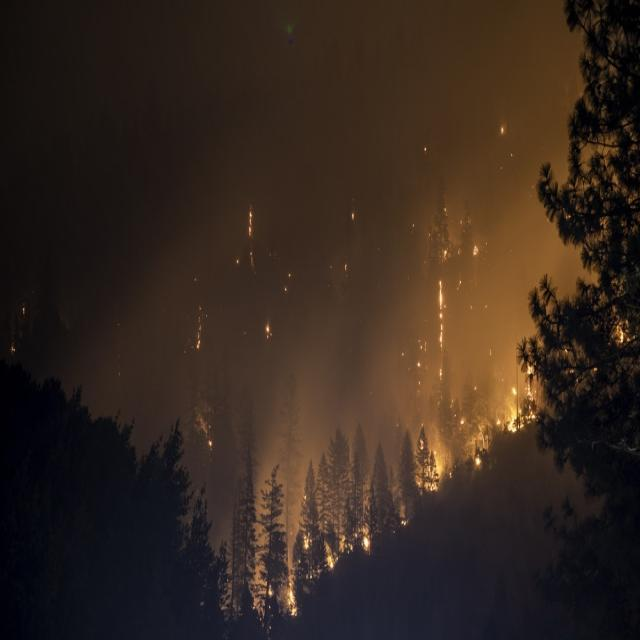Fire: (181, 205, 624, 620)
Smoke: (0, 0, 640, 640)
